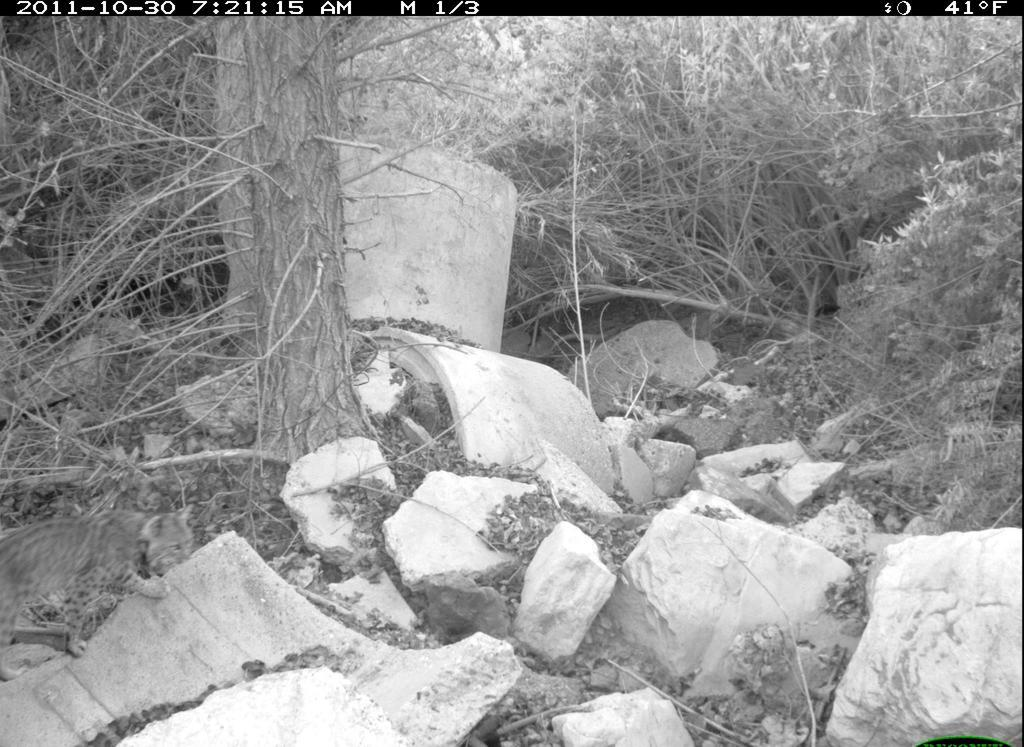bobcat: (2, 505, 195, 683)
